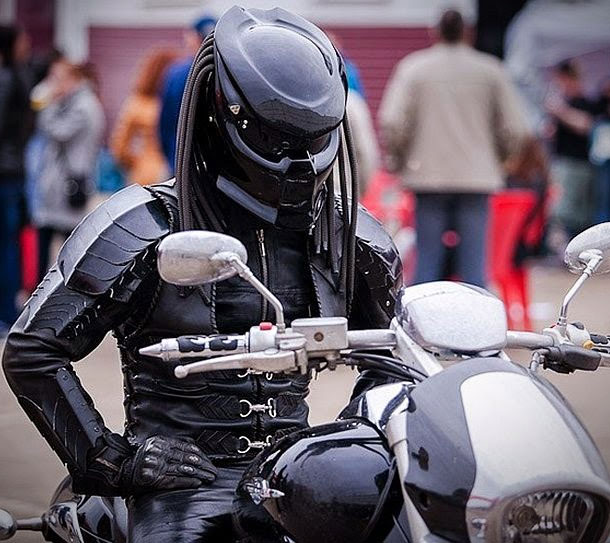with_helmet: (171, 1, 366, 233)
